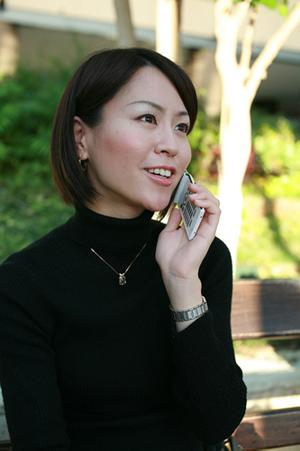person: (2, 47, 249, 451)
